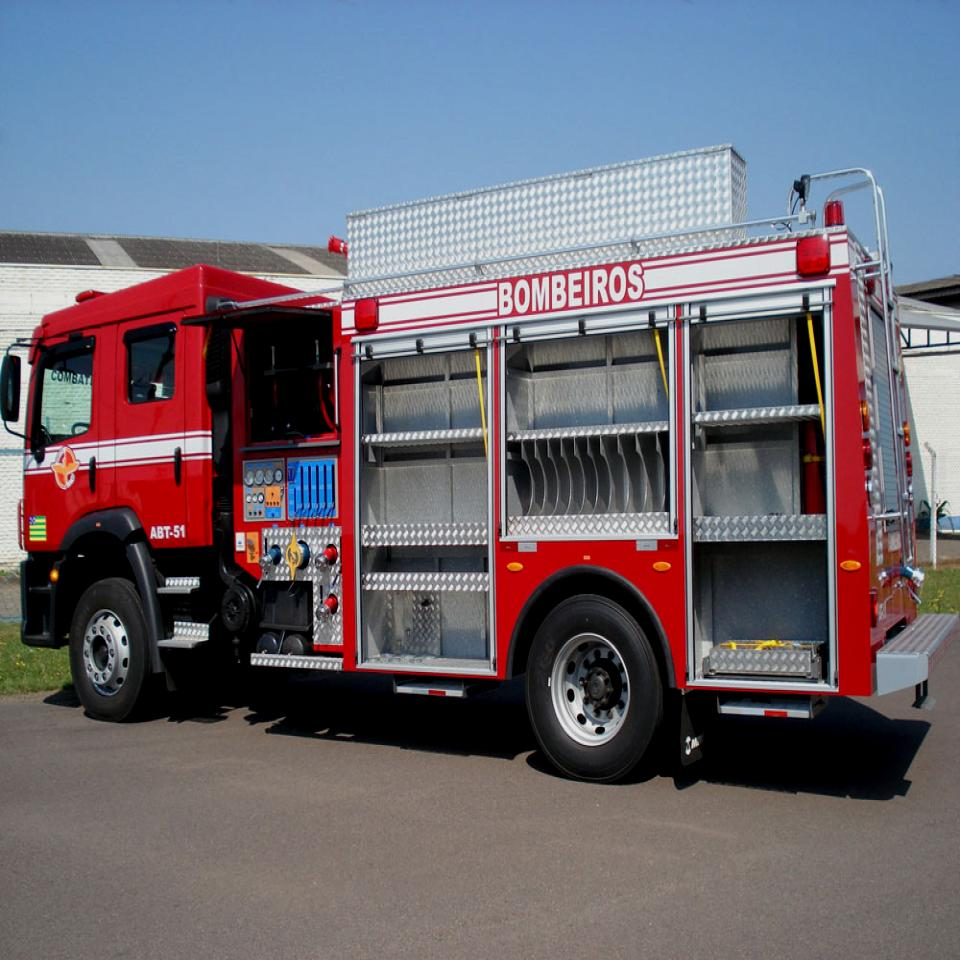bombeiro: (0, 148, 960, 787)
